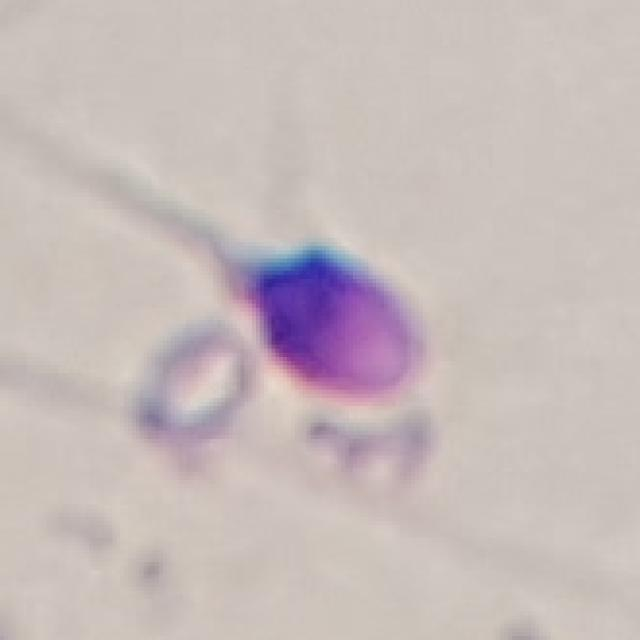normal sperm: (138, 192, 420, 397)
